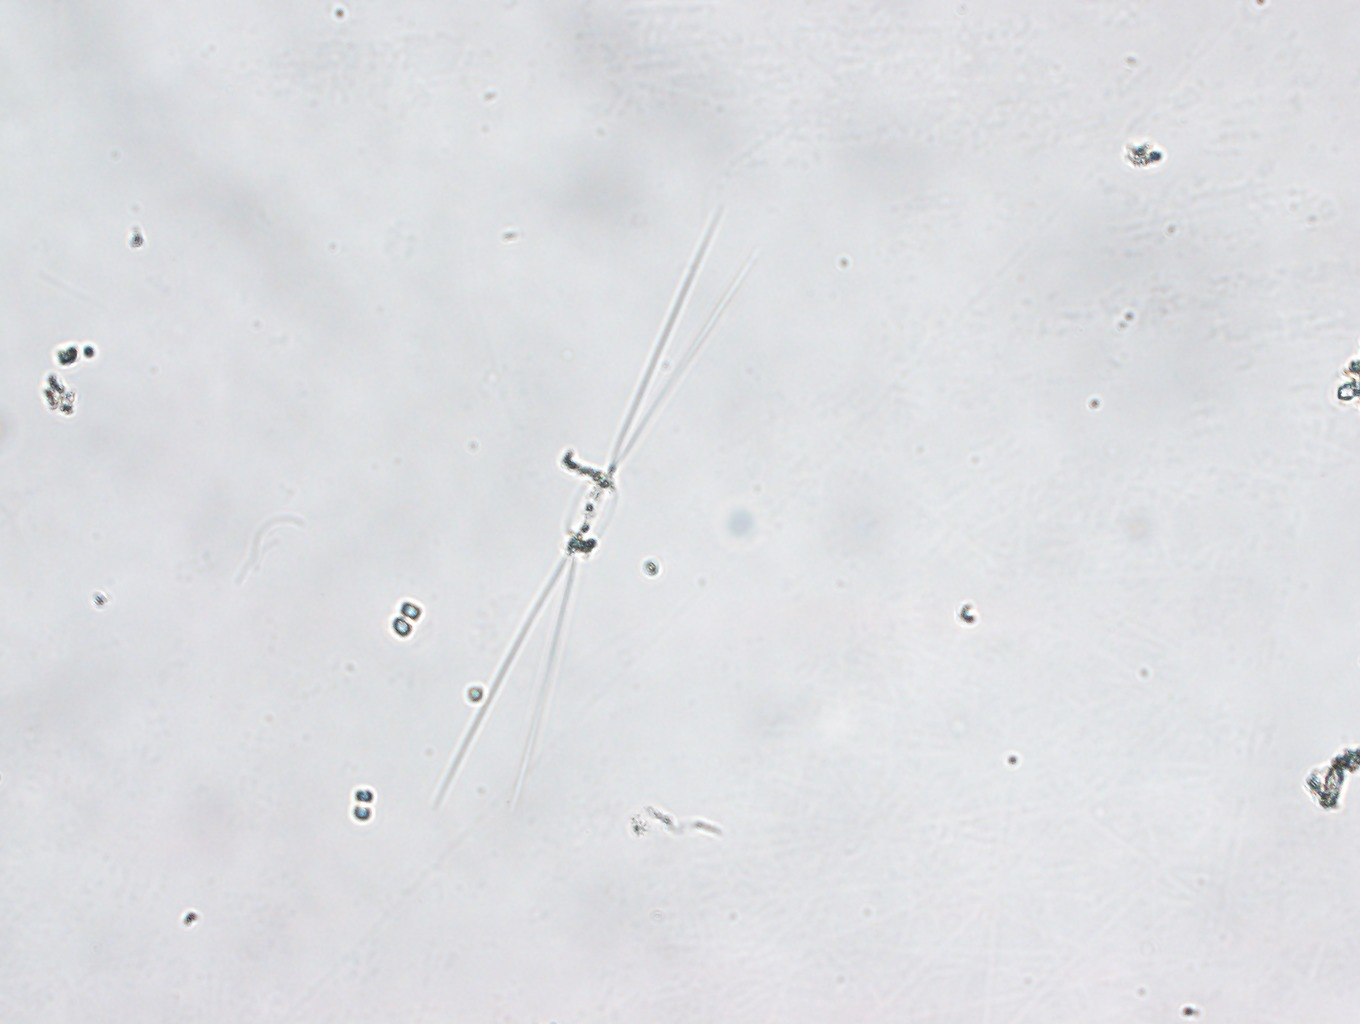chaetoceros: (433, 208, 762, 829)
